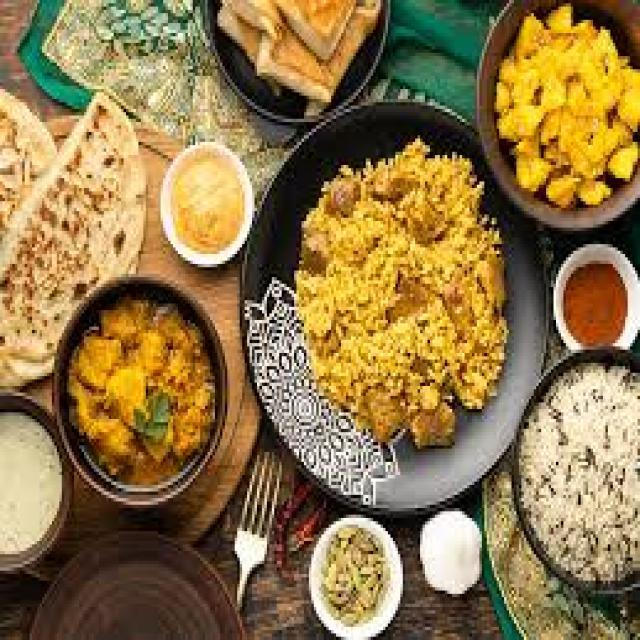raita: (416, 514, 486, 593)
rice: (295, 142, 499, 434), (518, 368, 639, 581)
roti: (0, 89, 94, 379)
sambar-rasam: (548, 240, 640, 346)
sweet: (155, 146, 254, 257)
veg-fry: (77, 287, 216, 494)
